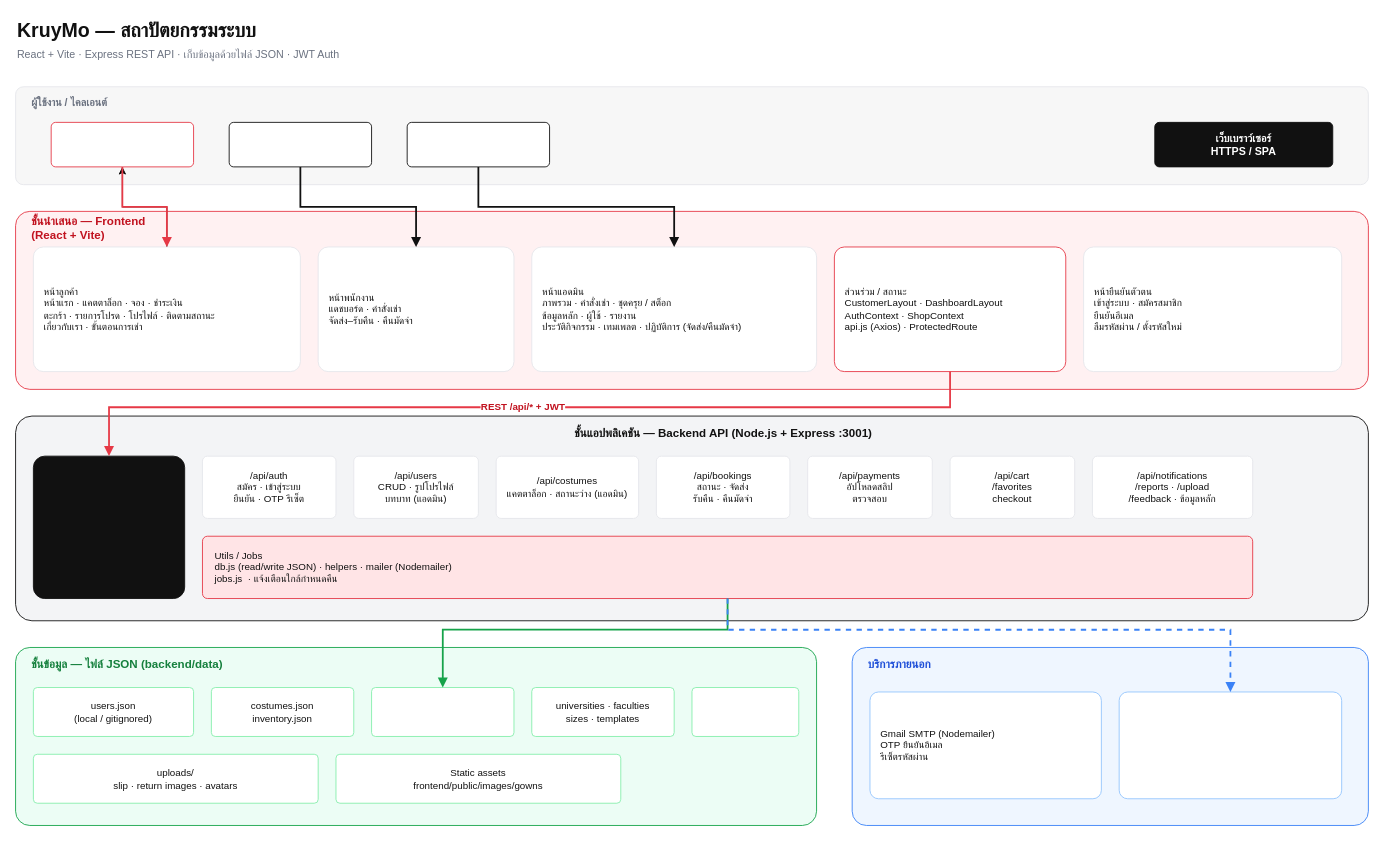
This 1384x841 diagram has some shape labels left out. Each missing label, with the centre of its shape:
"bookings.json payments.json" belongs at (x=442, y=711).
"cart · favorites · notifications activityLog" belongs at (x=745, y=711).
"Middleware CORS · JSON body JWT ยืนยันตัวตน authorize ตามบทบาท" belongs at (x=108, y=527).
"พนักงาน ฝ่ายปฏิบัติการ" belongs at (x=300, y=144).
"พร้อมเพย์ (แบบแมนนวล) QR คงที่ + อัปโหลดสลิป พนักงาน/แอดมินตรวจสอบ" belongs at (x=1230, y=745).
"ลูกค้า บัณฑิต / ผู้เช่า" belongs at (x=122, y=144).
"แอดมิน ผู้ดูแลระบบ" belongs at (x=478, y=144).
